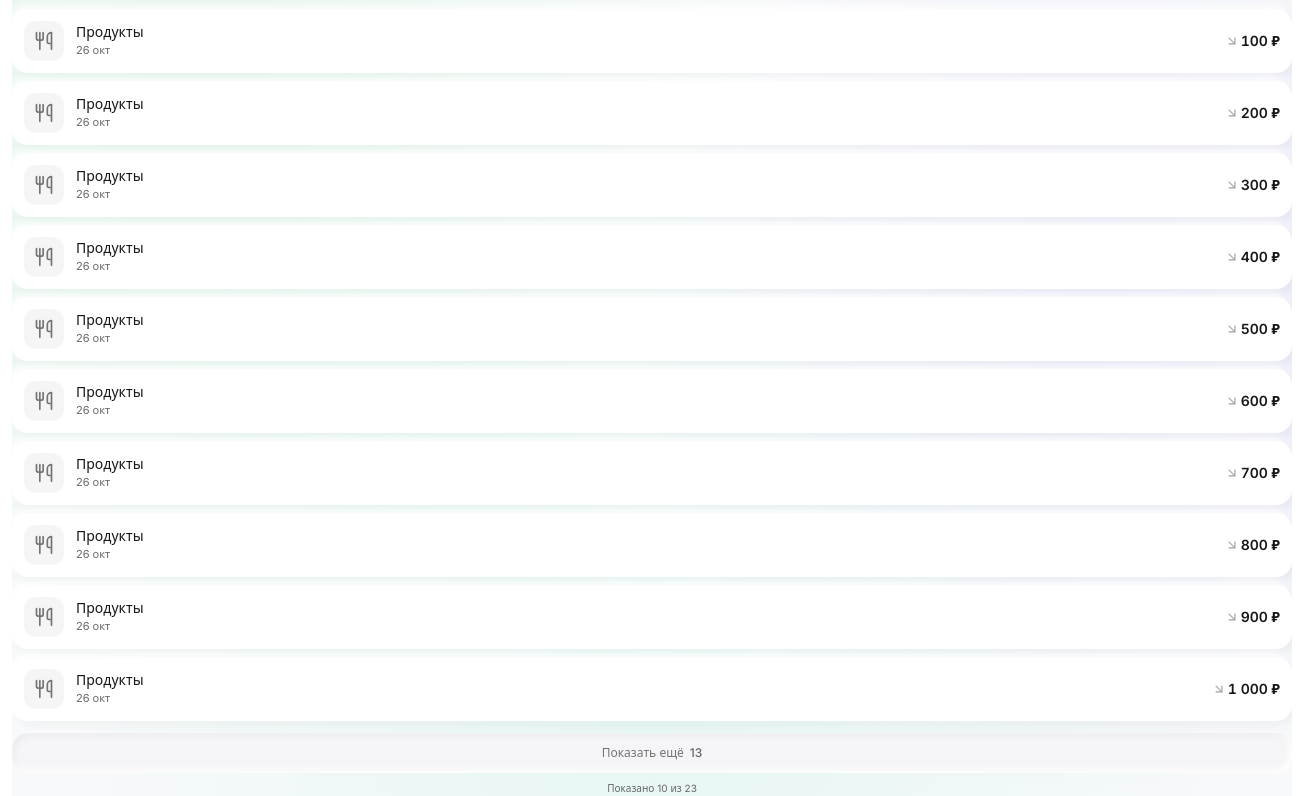
Test case: Home transaction list › shows at most ten transactions initially and reveals ten more per click
(page scrolled)
Expected: the text "13" is shown, [690,744,702,760]
Click the button "Показать ещё13" at (652, 752), box [12,732,1292,772]
(page scrolled)
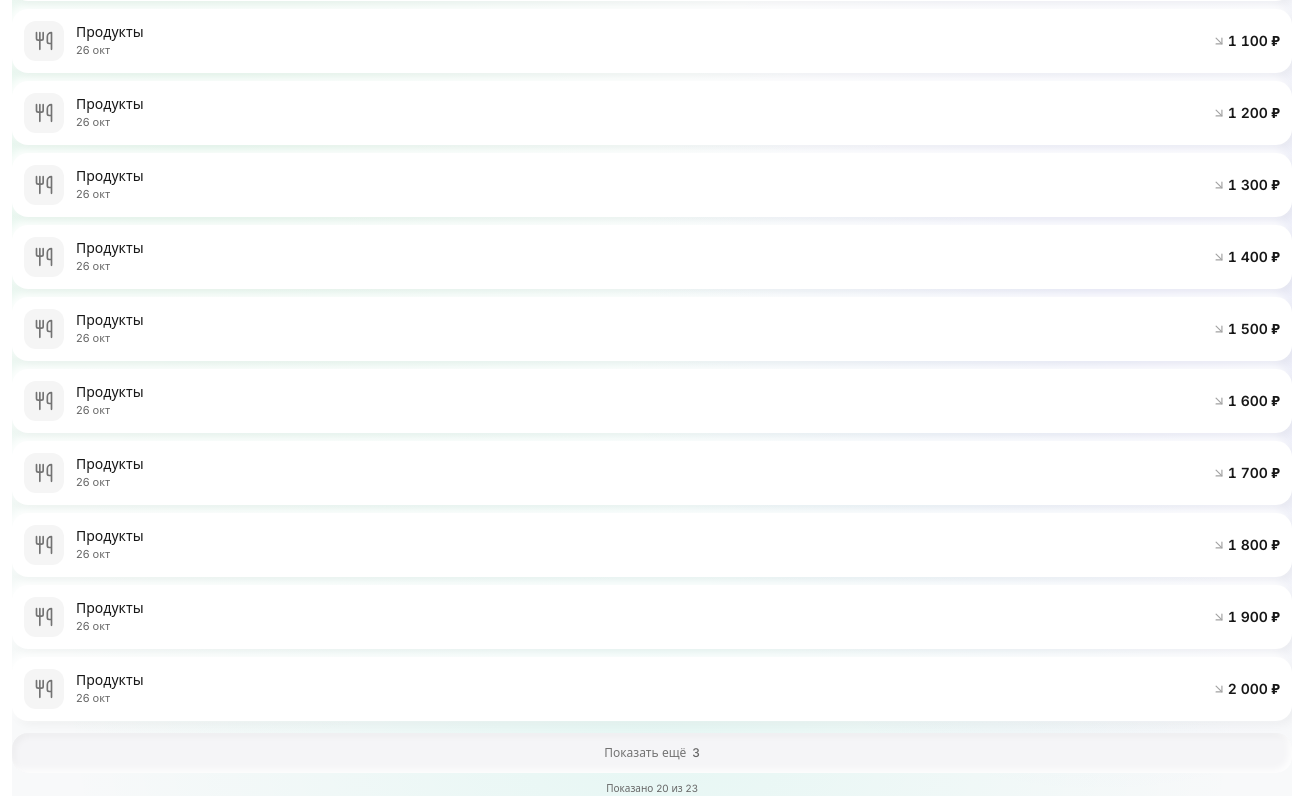
Expected: the text "3" is shown, [692,744,700,760]
Click the button "Показать ещё3" at (652, 752), box [12,732,1292,772]
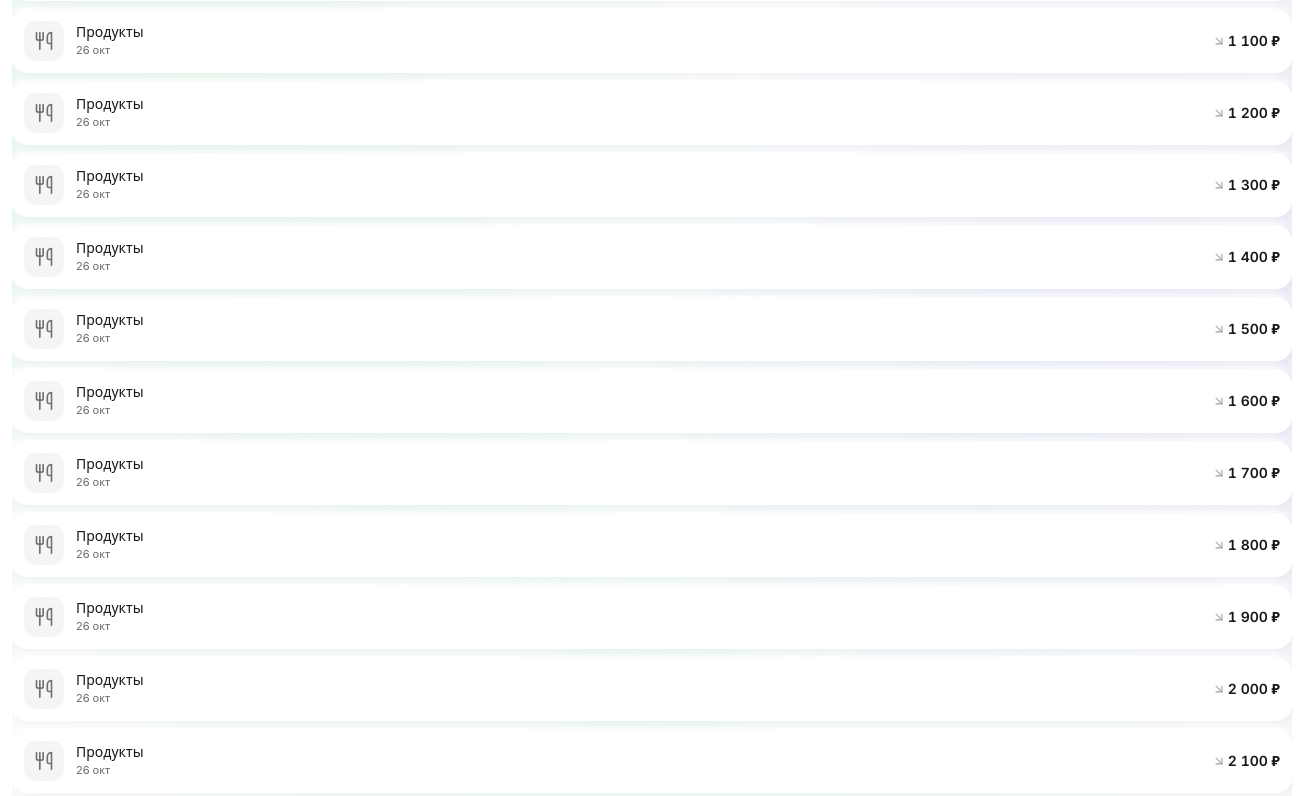
Now the button "Показать ещё" is gone
